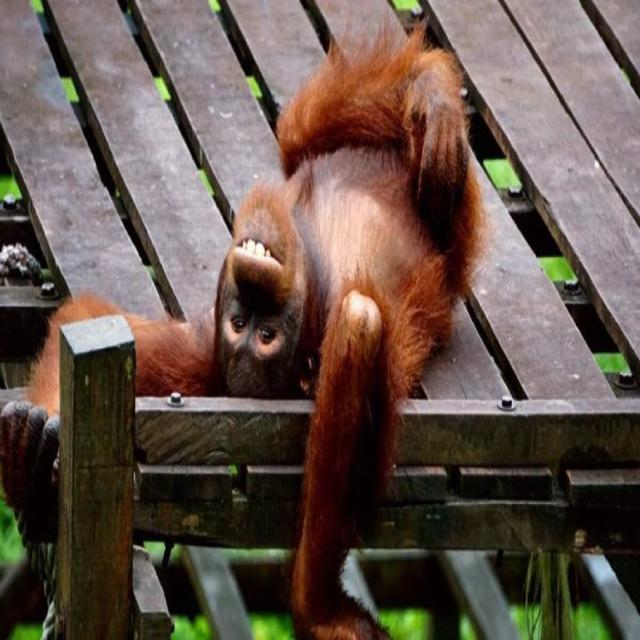Orangutan: (41, 26, 479, 619)
